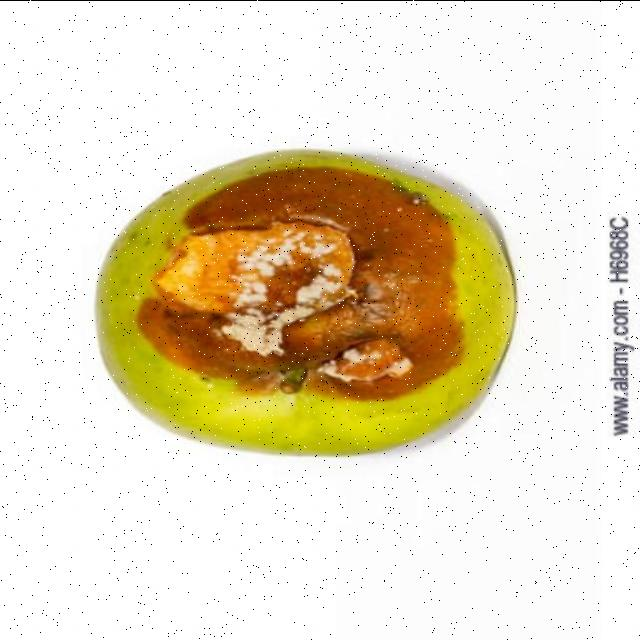ROT: (78, 149, 528, 461)
